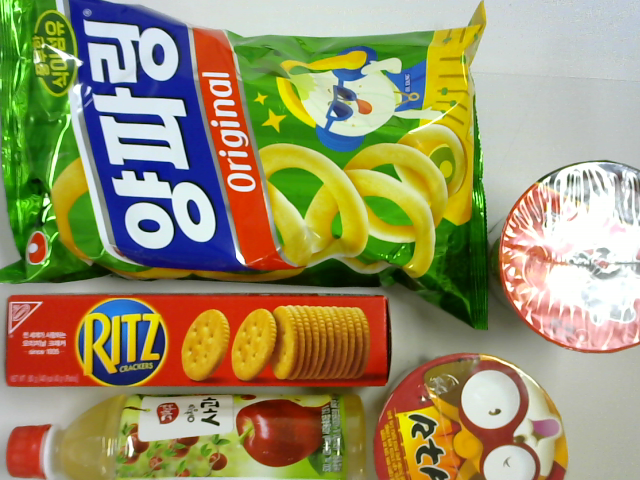Morning_Apple_500ml: (7, 387, 364, 480)
Oninon_Ring: (1, 1, 490, 332)
Raccoon: (371, 354, 568, 480)
Ritz_Cracker: (1, 290, 393, 387)
Sinramen_small: (486, 158, 640, 354)
